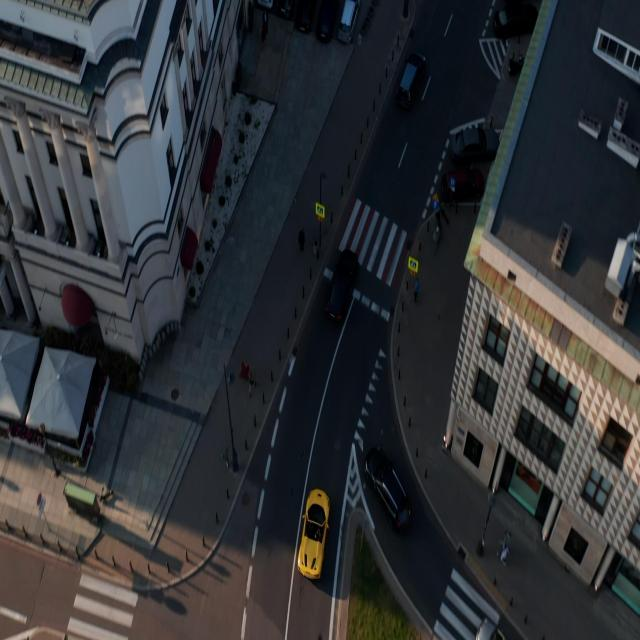Car: (298, 501, 329, 573), (368, 461, 408, 515), (323, 259, 356, 298), (495, 6, 533, 34), (395, 64, 428, 96), (450, 136, 496, 156), (319, 3, 338, 38), (444, 178, 481, 195), (340, 4, 360, 32), (298, 4, 312, 32), (479, 625, 501, 640), (276, 3, 291, 13), (258, 0, 270, 7)
Cycle: (508, 52, 523, 76)
